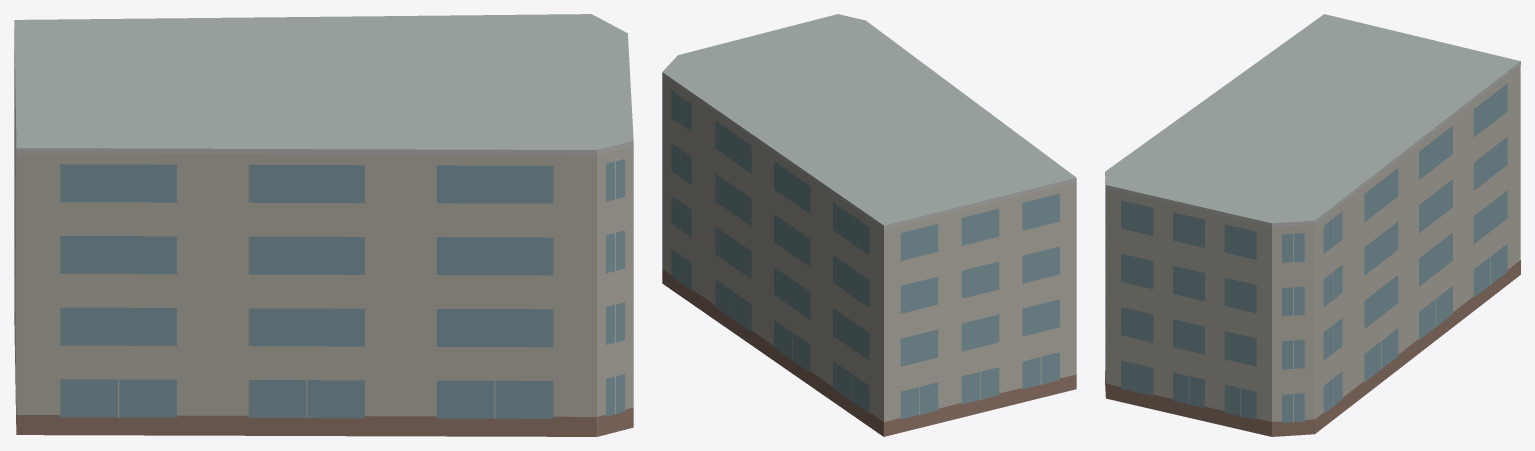
The model's file is survey-upis-32616485.glb.
The picture shows the model from 3 angles, left to right: view 1: azimuth 30°, elevation 25°; view 2: azimuth 150°, elevation 25°; view 3: azimuth 270°, elevation 25°; orthographic projection. The views are drawn at different scales.
Parts seen in each view (by area): view 1: survey-upis-32616485.tmp; view 2: survey-upis-32616485.tmp; view 3: survey-upis-32616485.tmp.
Part boxes in pixels (x1,y1,x2,y2): survey-upis-32616485.tmp: [14, 14, 633, 436]; survey-upis-32616485.tmp: [662, 14, 1076, 436]; survey-upis-32616485.tmp: [1105, 14, 1520, 436].
Bounding box in the file's own units: 28.39 × 13.5 × 23.82.
